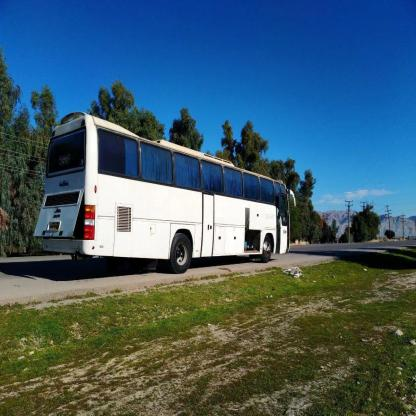Bus: (39, 115, 297, 278)
